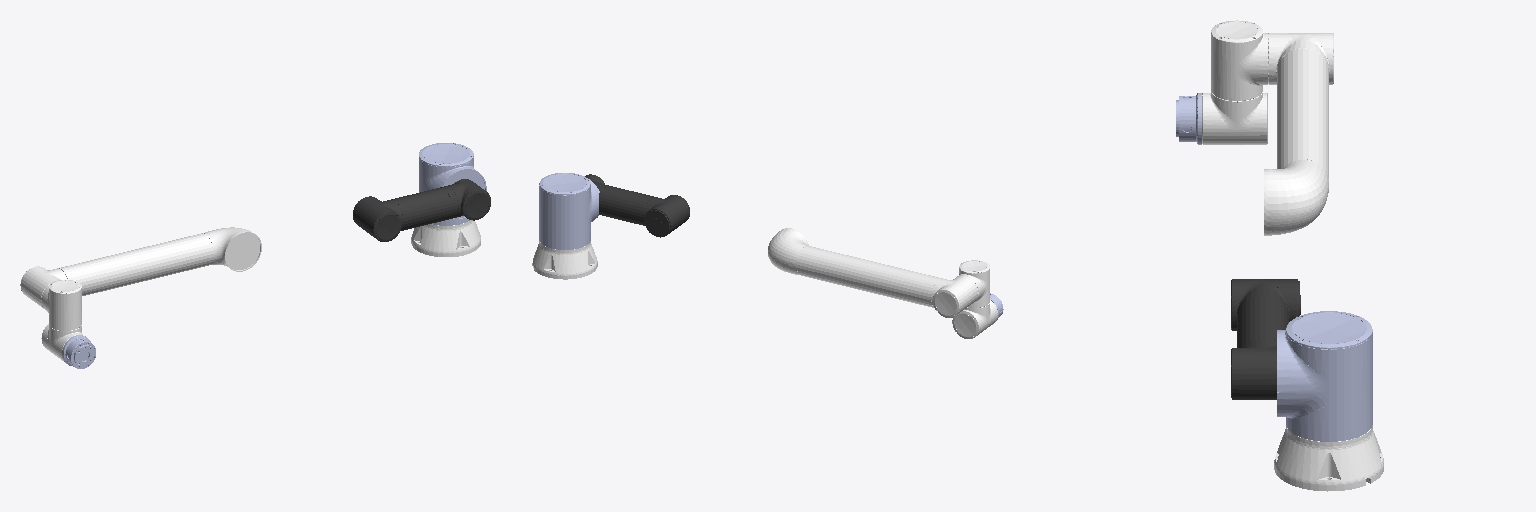
The robot description file, URDF, robot "fr10v6":
<?xml version="1.0" encoding="utf-8" ?>
<!-- This URDF was automatically created by SolidWorks to URDF Exporter! Originally created by [author] ([email redacted]) 
     Commit Version: 1.5.1-0-g916b5db  Build Version: 1.5.7152.31018
     For more information, please see http://wiki.ros.org/sw_urdf_exporter -->
<robot name="fr10v6">
    <link name="world" />
    <joint name="world" type="fixed">
        <parent link="world" />
        <child link="base_link" />
    </joint>
    <link name="base_link">
        
<inertial>
            <origin xyz="-0.00037778 -0.00035367 0.035825" rpy="0 0 0" />
            <mass value="0.73775" />
            <inertia ixx="0.0026263" ixy="1.1085E-05" ixz="-8.5601E-06" iyy="0.0026258" iyz="-7.9868E-06" izz="0.0044466" />
        </inertial>

        <visual>
            <origin xyz="0 0 0" rpy="0 0 0" />
            <geometry>
                <mesh filename="package://frcobot_description/meshes/fr10v6/visual/base_link.DAE" />
            </geometry>
            <material name="">
                <color rgba="1 1 1 1" />
            </material>
        </visual>
        <collision>
            <origin xyz="0 0 0" rpy="0 0 0" />
            <geometry>
                <mesh filename="package://frcobot_description/meshes/fr10v6/collision/base_link.STL" />
            </geometry>
        </collision>
    </link>
    <link name="j1_Link">
        
<inertial>
            <origin xyz="3.3888E-09 -0.0079713 0.17311" rpy="0 0 0" />
            <mass value="9.8122" />
            <inertia ixx="0.041746" ixy="-1.8666E-07" ixz="-2.3424E-07" iyy="0.039088" iyz="0.00068462" izz="0.031895" />
        </inertial>

        <visual>
            <origin xyz="0 0 0" rpy="0 0 0" />
            <geometry>
                <mesh filename="package://frcobot_description/meshes/fr10v6/visual/j1_Link.DAE" />
            </geometry>
            <material name="">
                <color rgba="0.79216 0.81961 0.93333 1" />
            </material>
        </visual>
        <collision>
            <origin xyz="0 0 0" rpy="0 0 0" />
            <geometry>
                <mesh filename="package://frcobot_description/meshes/fr10v6/collision/j1_Link.STL" />
            </geometry>
        </collision>
    </link>
    <joint name="j1" type="revolute">
        <origin xyz="0 0 0" rpy="0 0 0" />
        <parent link="base_link" />
        <child link="j1_Link" />
        <axis xyz="0 0 1" />
        <limit lower="-3.0543" upper="3.0543" effort="150" velocity="3.15" />
        <calibration rising="0" falling="0" />
        <dynamics damping="0" friction="0" />
        <safety_controller soft_lower_limit="-3.0543" soft_upper_limit="3.0543" k_position="15" k_velocity="10" />
    </joint>
    <link name="j2_Link">
        
<inertial>
            <origin xyz="-0.28687 -1.3562E-08 0.18211" rpy="0 0 0" />
            <mass value="29.757" />
            <inertia ixx="0.0783" ixy="-2.6909E-06" ixz="0.0073888" iyy="2.0297" iyz="4.6352E-07" izz="2.0144" />
        </inertial>

        <visual>
            <origin xyz="0 0 0" rpy="0 0 0" />
            <geometry>
                <mesh filename="package://frcobot_description/meshes/fr10v6/visual/j2_Link.DAE" />
            </geometry>
            <material name="">
                <color rgba="0.29804 0.29804 0.29804 1" />
            </material>
        </visual>
        <collision>
            <origin xyz="0 0 0" rpy="0 0 0" />
            <geometry>
                <mesh filename="package://frcobot_description/meshes/fr10v6/collision/j2_Link.STL" />
            </geometry>
        </collision>
    </link>
    <joint name="j2" type="revolute">
        <origin xyz="0 0 0.18" rpy="1.5708 0 0" />
        <parent link="j1_Link" />
        <child link="j2_Link" />
        <axis xyz="0 0 1" />
        <limit lower="-4.6251" upper="1.4835" effort="150" velocity="3.15" />
        <calibration rising="0" falling="0" />
        <dynamics damping="0" friction="0" />
        <safety_controller soft_lower_limit="-4.6251" soft_upper_limit="1.4835" k_position="15" k_velocity="10" />
    </joint>
    <link name="j3_Link">
        
<inertial>
            <origin xyz="-0.29317 8.0463E-07 0.049055" rpy="0 0 0" />
            <mass value="12.684" />
            <inertia ixx="0.015471" ixy="-3.4743E-06" ixz="-0.010782" iyy="0.53044" iyz="-8.5034E-07" izz="0.52884" />
        </inertial>

        <visual>
            <origin xyz="0 0 0" rpy="0 0 0" />
            <geometry>
                <mesh filename="package://frcobot_description/meshes/fr10v6/visual/j3_Link.DAE" />
            </geometry>
            <material name="">
                <color rgba="1 1 1 1" />
            </material>
        </visual>
        <collision>
            <origin xyz="0 0 0" rpy="0 0 0" />
            <geometry>
                <mesh filename="package://frcobot_description/meshes/fr10v6/collision/j3_Link.STL" />
            </geometry>
        </collision>
    </link>
    <joint name="j3" type="revolute">
        <origin xyz="-0.7 0 0" rpy="0 0 0" />
        <parent link="j2_Link" />
        <child link="j3_Link" />
        <axis xyz="0 0 1" />
        <limit lower="-2.8274" upper="2.8274" effort="150" velocity="3.15" />
        <calibration rising="0" falling="0" />
        <dynamics damping="0" friction="0" />
        <safety_controller soft_lower_limit="-2.8274" soft_upper_limit="2.8274" k_position="15" k_velocity="10" />
    </joint>
    <link name="j4_Link">
        
<inertial>
            <origin xyz="5.5958E-07 -0.0024406 0.15369" rpy="0 0 0" />
            <mass value="2.234" />
            <inertia ixx="0.0034862" ixy="7.2564E-09" ixz="6.713E-08" iyy="0.0026647" iyz="5.1294E-05" izz="0.0032186" />
        </inertial>

        <visual>
            <origin xyz="0 0 0" rpy="0 0 0" />
            <geometry>
                <mesh filename="package://frcobot_description/meshes/fr10v6/visual/j4_Link.DAE" />
            </geometry>
            <material name="">
                <color rgba="1 1 1 1" />
            </material>
        </visual>
        <collision>
            <origin xyz="0 0 0" rpy="0 0 0" />
            <geometry>
                <mesh filename="package://frcobot_description/meshes/fr10v6/collision/j4_Link.STL" />
            </geometry>
        </collision>
    </link>
    <joint name="j4" type="revolute">
        <origin xyz="-0.586 0 0" rpy="0 0 0" />
        <parent link="j3_Link" />
        <child link="j4_Link" />
        <axis xyz="0 0 1" />
        <limit lower="-4.6251" upper="1.4835" effort="28" velocity="3.2" />
        <calibration rising="0" falling="0" />
        <dynamics damping="0" friction="0" />
        <safety_controller soft_lower_limit="-4.6251" soft_upper_limit="1.4835" k_position="15" k_velocity="10" />
    </joint>
    <link name="j5_Link">
        
<inertial>
            <origin xyz="-5.5958E-07 0.0024406 0.10869" rpy="0 0 0" />
            <mass value="2.234" />
            <inertia ixx="0.0034862" ixy="7.2564E-09" ixz="-6.713E-08" iyy="0.0026647" iyz="-5.1294E-05" izz="0.0032186" />
        </inertial>

        <visual>
            <origin xyz="0 0 0" rpy="0 0 0" />
            <geometry>
                <mesh filename="package://frcobot_description/meshes/fr10v6/visual/j5_Link.DAE" />
            </geometry>
            <material name="">
                <color rgba="1 1 1 1" />
            </material>
        </visual>
        <collision>
            <origin xyz="0 0 0" rpy="0 0 0" />
            <geometry>
                <mesh filename="package://frcobot_description/meshes/fr10v6/collision/j5_Link.STL" />
            </geometry>
        </collision>
    </link>
    <joint name="j5" type="revolute">
        <origin xyz="0 0 0.159" rpy="1.5708 0 0" />
        <parent link="j4_Link" />
        <child link="j5_Link" />
        <axis xyz="0 0 1" />
        <limit lower="-3.0543" upper="3.0543" effort="28" velocity="3.2" />
        <calibration rising="0" falling="0" />
        <dynamics damping="0" friction="0" />
        <safety_controller soft_lower_limit="-3.0543" soft_upper_limit="3.0543" k_position="15" k_velocity="10" />
    </joint>
    <link name="j6_Link">
        
<inertial>
            <origin xyz="-8.7069E-06 -3.2125E-05 0.082427" rpy="0 0 0" />
            <mass value="0.20143" />
            <inertia ixx="0.00011168" ixy="9.1307E-11" ixz="6.3345E-09" iyy="0.0001118" iyz="9.9205E-08" izz="0.00016774" />
        </inertial>

        <visual>
            <origin xyz="0 0 0" rpy="0 0 0" />
            <geometry>
                <mesh filename="package://frcobot_description/meshes/fr10v6/visual/j6_Link.DAE" />
            </geometry>
            <material name="">
                <color rgba="0.79216 0.81961 0.93333 1" />
            </material>
        </visual>
        <collision>
            <origin xyz="0 0 0" rpy="0 0 0" />
            <geometry>
                <mesh filename="package://frcobot_description/meshes/fr10v6/collision/j6_Link.STL" />
            </geometry>
        </collision>
    </link>
    <joint name="j6" type="revolute">
        <origin xyz="0 0 0.114" rpy="-1.5708 0 0" />
        <parent link="j5_Link" />
        <child link="j6_Link" />
        <axis xyz="0 0 1" />
        <limit lower="-3.0543" upper="3.0543" effort="28" velocity="3.2" />
        <calibration rising="0" falling="0" />
        <dynamics damping="0" friction="0" />
        <safety_controller soft_lower_limit="-3.0543" soft_upper_limit="3.0543" k_position="15" k_velocity="10" />
    </joint>
    <link name="tool_Link">
        
<inertial>
            <origin xyz="0.24412 0.079181 -0.126" rpy="0 0 0" />
            <mass value="0" />
            <inertia ixx="0.10666" ixy="-0.046059" ixz="0.046354" iyy="0.87967" iyz="0.0095222" izz="0.85231" />
        </inertial>

        <visual>
            <origin xyz="0 0 0" rpy="0 0 0" />
            <geometry>
                <mesh filename="package://frcobot_description/meshes/fr10v6/visual/tool_Link.STL" />
            </geometry>
            <material name="">
                <color rgba="1 1 1 1" />
            </material>
        </visual>
        <collision>
            <origin xyz="0 0 0" rpy="0 0 0" />
            <geometry>
                <mesh filename="package://frcobot_description/meshes/fr10v6/collision/tool_Link.STL" />
            </geometry>
        </collision>
    </link>
    <joint name="tool" type="fixed">
        <origin xyz="0 0 0.106" rpy="0 0 0" />
        <parent link="j6_Link" />
        <child link="tool_Link" />
        <axis xyz="0 0 1" />
        <limit lower="0" upper="0" effort="0" velocity="0" />
        <calibration rising="0" falling="0" />
        <dynamics damping="0" friction="0" />
        <safety_controller soft_lower_limit="0" soft_upper_limit="0" k_position="0" k_velocity="0" />
    </joint>
    
<transmission name="trans_j1">
        <type>transmission_interface/SimpleTransmission</type>
        <joint name="j1">
            <hardwareInterface>hardware_interface/PositionJointInterface</hardwareInterface>
        </joint>
        <actuator name="j1_motor">
            <hardwareInterface>hardware_interface/PositionJointInterface</hardwareInterface>
            <mechanicalReduction>1</mechanicalReduction>
        </actuator>
    </transmission>
    <transmission name="trans_j2">
        <type>transmission_interface/SimpleTransmission</type>
        <joint name="j2">
            <hardwareInterface>hardware_interface/PositionJointInterface</hardwareInterface>
        </joint>
        <actuator name="j2_motor">
            <hardwareInterface>hardware_interface/PositionJointInterface</hardwareInterface>
            <mechanicalReduction>1</mechanicalReduction>
        </actuator>
    </transmission>
    <transmission name="trans_j3">
        <type>transmission_interface/SimpleTransmission</type>
        <joint name="j3">
            <hardwareInterface>hardware_interface/PositionJointInterface</hardwareInterface>
        </joint>
        <actuator name="j3_motor">
            <hardwareInterface>hardware_interface/PositionJointInterface</hardwareInterface>
            <mechanicalReduction>1</mechanicalReduction>
        </actuator>
    </transmission>
    <transmission name="trans_j4">
        <type>transmission_interface/SimpleTransmission</type>
        <joint name="j4">
            <hardwareInterface>hardware_interface/PositionJointInterface</hardwareInterface>
        </joint>
        <actuator name="j4_motor">
            <hardwareInterface>hardware_interface/PositionJointInterface</hardwareInterface>
            <mechanicalReduction>1</mechanicalReduction>
        </actuator>
    </transmission>
    <transmission name="trans_j5">
        <type>transmission_interface/SimpleTransmission</type>
        <joint name="j5">
            <hardwareInterface>hardware_interface/PositionJointInterface</hardwareInterface>
        </joint>
        <actuator name="j5_motor">
            <hardwareInterface>hardware_interface/PositionJointInterface</hardwareInterface>
            <mechanicalReduction>1</mechanicalReduction>
        </actuator>
    </transmission>
    <transmission name="trans_j6">
        <type>transmission_interface/SimpleTransmission</type>
        <joint name="j6">
            <hardwareInterface>hardware_interface/PositionJointInterface</hardwareInterface>
        </joint>
        <actuator name="j6_motor">
            <hardwareInterface>hardware_interface/PositionJointInterface</hardwareInterface>
            <mechanicalReduction>1</mechanicalReduction>
        </actuator>
    </transmission>
    <gazebo>
        <plugin name="gazebo_ros_control" filename="libgazebo_ros_control.so">
            <robotNamespace>/</robotNamespace>
        </plugin>
    </gazebo>
</robot>

--- Render facts (derived) ---
3 views of the same robot in one strip: view 1: azimuth 30°, elevation 25°; view 2: azimuth 150°, elevation 25°; view 3: azimuth 270°, elevation 25° (orthographic).
Model fr10v6 with 9 links and 8 joints (6 revolute, 2 fixed), rooted at world, posed every joint at zero.
Visible links, largest first — view 1: j3_Link, j2_Link, j1_Link, base_link, j4_Link, j6_Link, j5_Link; view 2: j3_Link, j1_Link, j2_Link, base_link, j5_Link, j4_Link; view 3: j3_Link, j1_Link, j2_Link, base_link, j4_Link, j5_Link, j6_Link.
Link boxes in pixels (x1=…): j3_Link: x1=20, y1=227, x2=261, y2=308; j2_Link: x1=353, y1=179, x2=490, y2=241; j1_Link: x1=419, y1=143, x2=486, y2=225; base_link: x1=411, y1=220, x2=480, y2=256; j4_Link: x1=41, y1=280, x2=81, y2=330; j6_Link: x1=62, y1=335, x2=95, y2=368; j5_Link: x1=41, y1=324, x2=83, y2=361; j3_Link: x1=768, y1=228, x2=978, y2=317; j1_Link: x1=539, y1=173, x2=599, y2=249; j2_Link: x1=585, y1=174, x2=689, y2=237; base_link: x1=532, y1=240, x2=597, y2=279; j5_Link: x1=952, y1=300, x2=997, y2=338; j4_Link: x1=957, y1=260, x2=989, y2=307; j3_Link: x1=1264, y1=33, x2=1333, y2=235; j1_Link: x1=1277, y1=311, x2=1372, y2=441; j2_Link: x1=1231, y1=279, x2=1300, y2=399; base_link: x1=1274, y1=425, x2=1383, y2=491; j4_Link: x1=1211, y1=20, x2=1267, y2=100; j5_Link: x1=1202, y1=92, x2=1267, y2=144; j6_Link: x1=1176, y1=93, x2=1201, y2=144.
Bounding box of the posed robot: 1.43 × 0.36 × 0.2667 m (x, y, z).
7 mesh visuals loaded from 8 distinct referenced files (7 Collada DAE); not drawn: 1 (file found but could not be loaded).